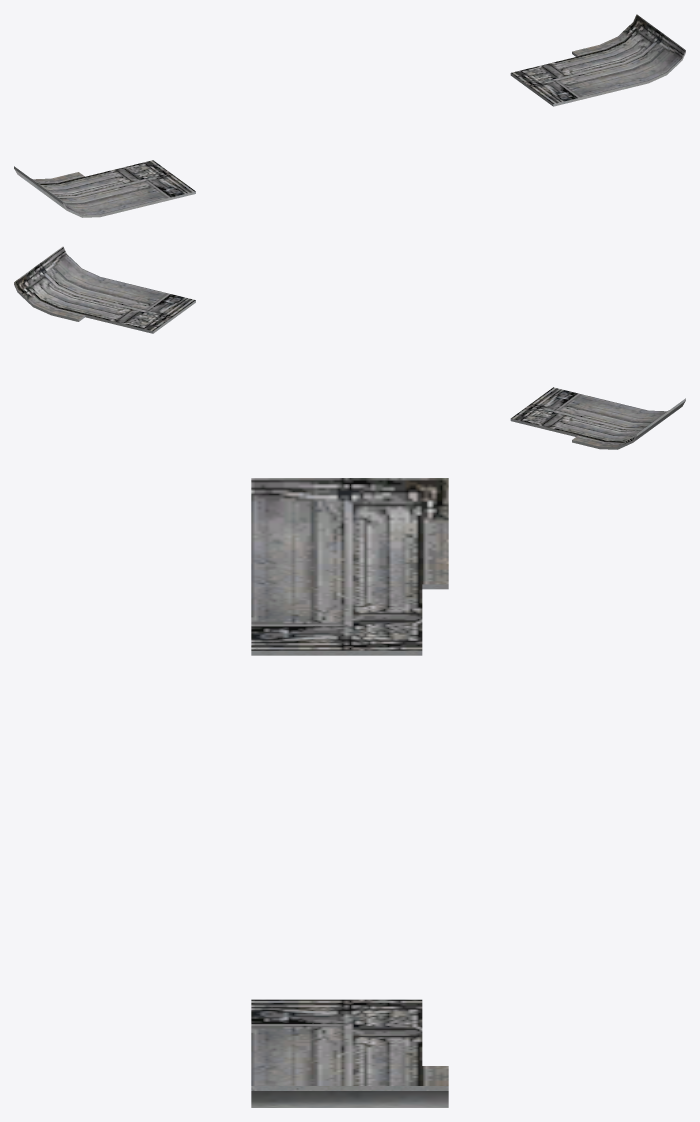
File: lambda_geardoor_a_l0.fbx
3 views of the same model, one above another, from view 1: azimuth 30°, elevation 25°; view 2: azimuth 150°, elevation 25°; view 3: azimuth 270°, elevation 25° (orthographic). The views are drawn at different scales.
Parts seen in each view (by area): view 1: mesh_node; view 2: mesh_node; view 3: mesh_node.
Part boxes in pixels (left/top/right/bottom): mesh_node: left=14, top=14, right=685, bottom=217; mesh_node: left=14, top=246, right=685, bottom=449; mesh_node: left=251, top=478, right=448, bottom=1107.
Size of the model in its own units: 13.68 by 0.5067 by 1.88.
